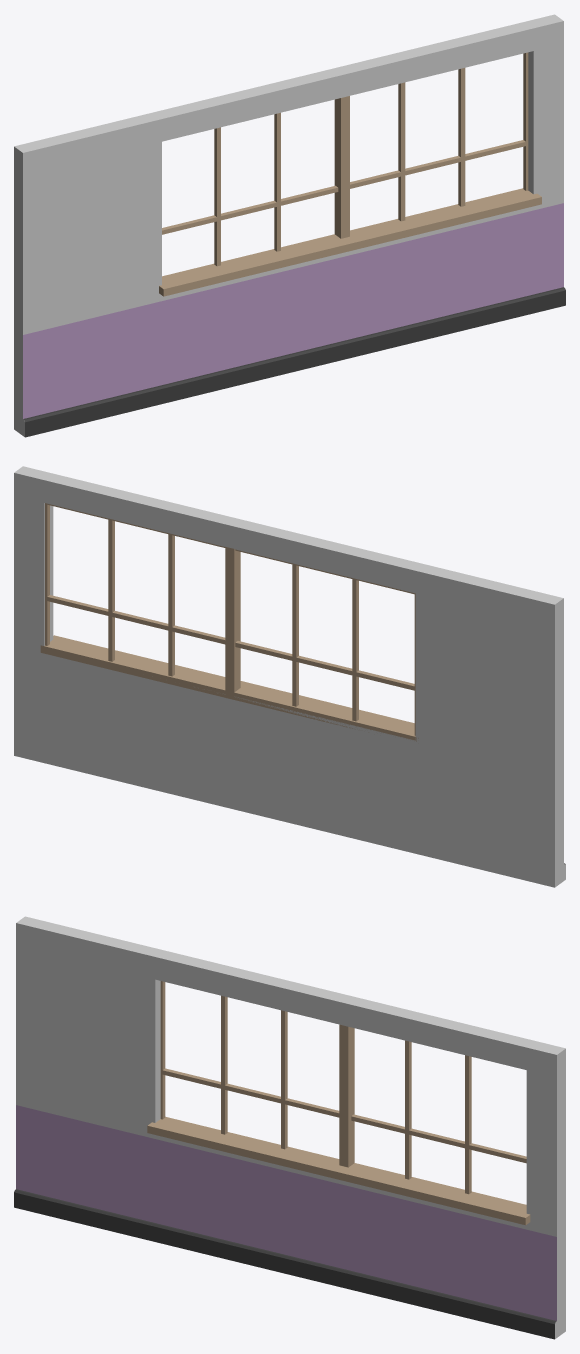
File: Kinder1_Window_Left.fbx
The picture shows the model from 3 angles, top to bottom: view 1: azimuth 30°, elevation 25°; view 2: azimuth 150°, elevation 25°; view 3: azimuth 330°, elevation 25°; orthographic projection.
Visible parts, largest first — view 1: WallFloor2_10.001; view 2: WallFloor2_10.001; view 3: WallFloor2_10.001.
Part boxes in pixels (left/top/right/bottom): WallFloor2_10.001: left=14, top=14, right=565, bottom=437; WallFloor2_10.001: left=14, top=466, right=565, bottom=887; WallFloor2_10.001: left=14, top=916, right=565, bottom=1339.
Size of the model in its own units: 500 by 250 by 21.92.
